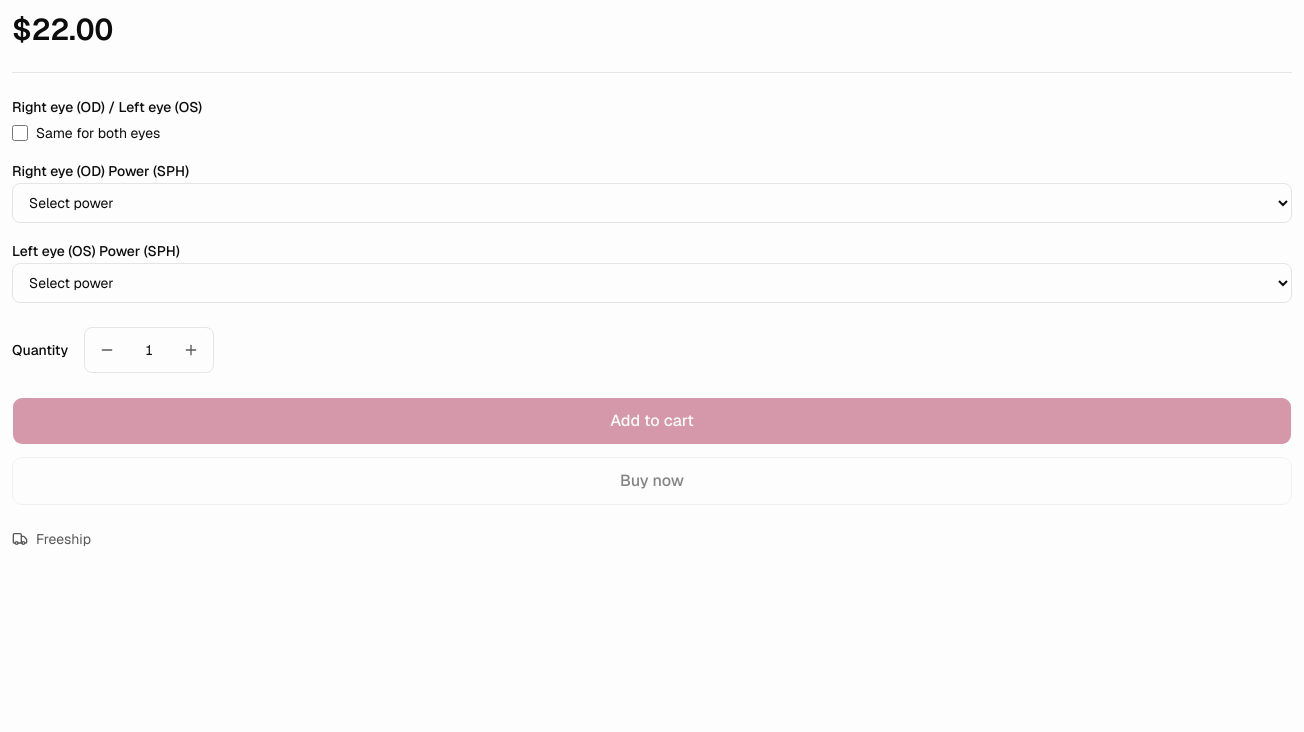
it: AddToCart — Rx gating (Task 5, Step 4) › disables the button until a valid Rx is entered, then enables it
Check: the button "Add to cart" is disabled, box [12,397,1292,445]
Select "-2.50" in the dropdown labelled "Right eye (OD) Power (SPH)" at (652,203), box [12,183,1292,223]
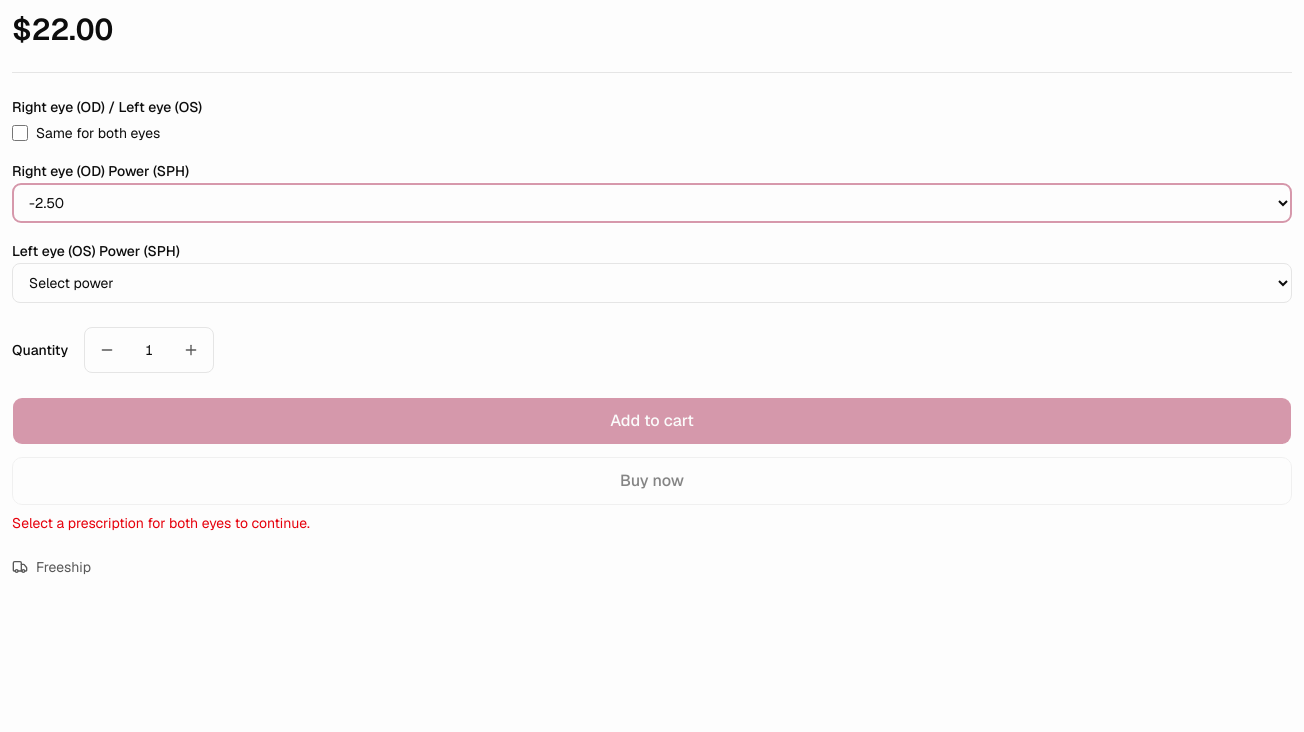
Click the checkbox labelled "Same for both eyes".
click(20, 133)  # box [12,125,28,141]
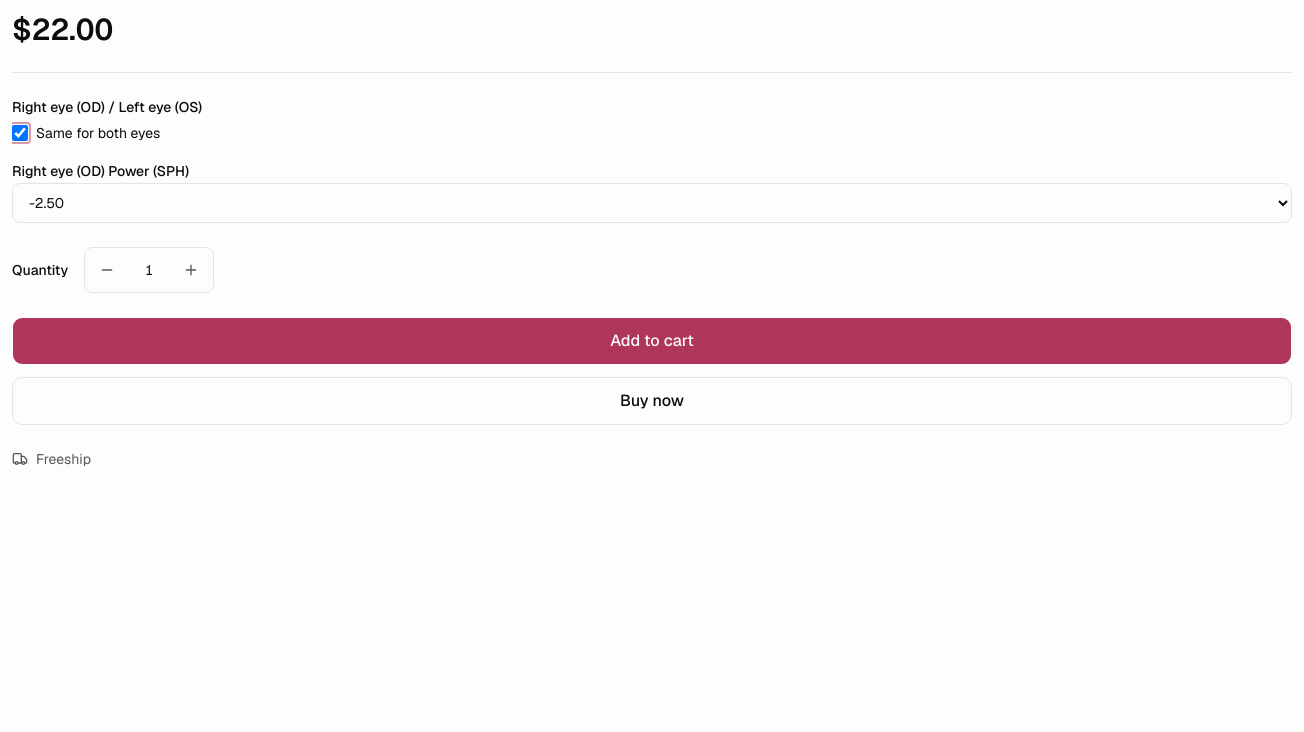
Check: the button "Add to cart" is enabled, box [12,317,1292,365]
